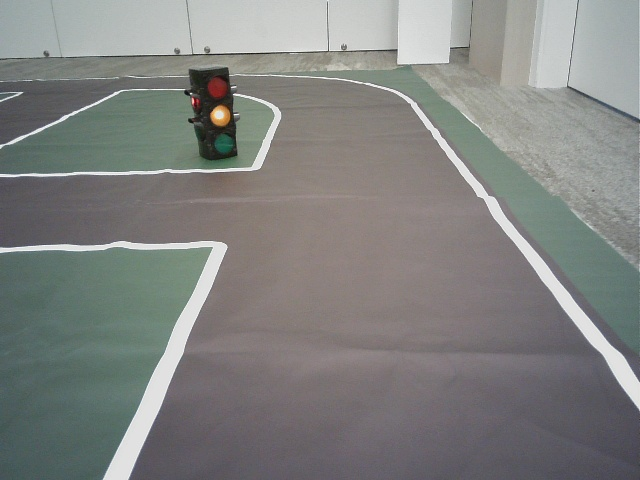yellow: (199, 74, 235, 151)
